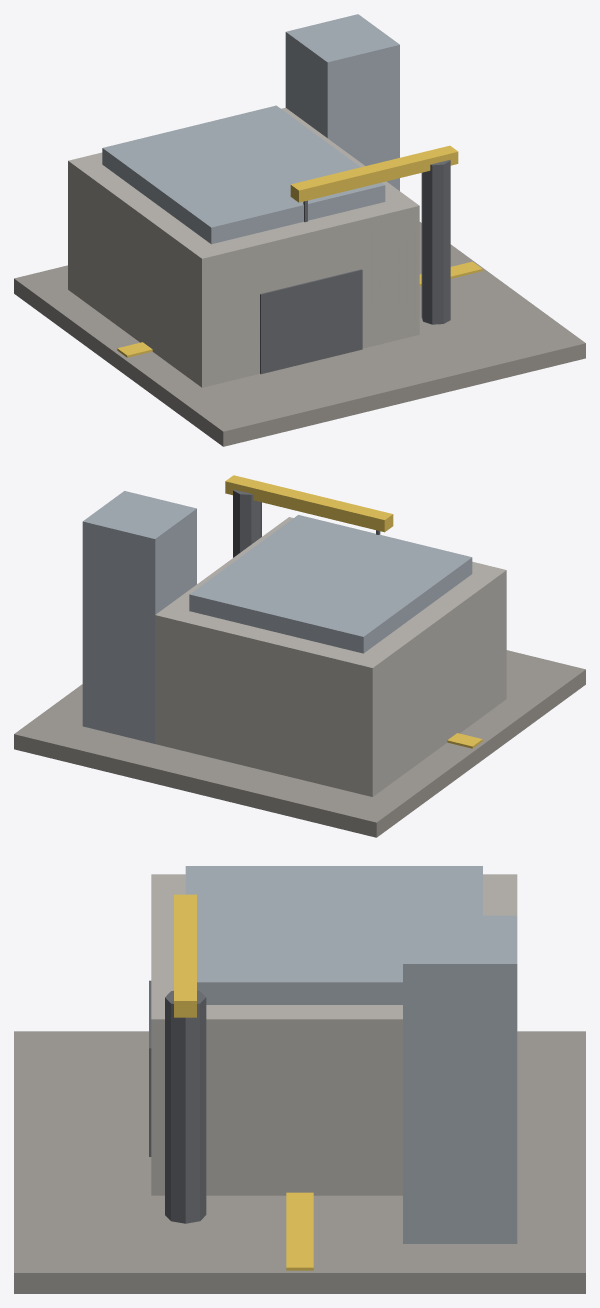
File: Bldg_ConstructionYard.fbx
3 views of the same model, one above another, from view 1: azimuth 30°, elevation 25°; view 2: azimuth 150°, elevation 25°; view 3: azimuth 270°, elevation 25° (orthographic). The views are drawn at different scales.
Visible parts, largest first — view 1: Body.003; view 2: Body.003; view 3: Body.003.
Part boxes in pixels (x1,y1,x2,y2): Body.003: (14,14,585,446); Body.003: (14,475,585,837); Body.003: (14,866,585,1293).
Bounding box in the file's own units: 5 × 2.9 × 5.
